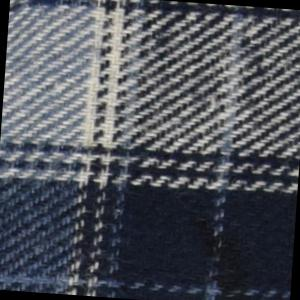Stain: (179, 201, 262, 300)
